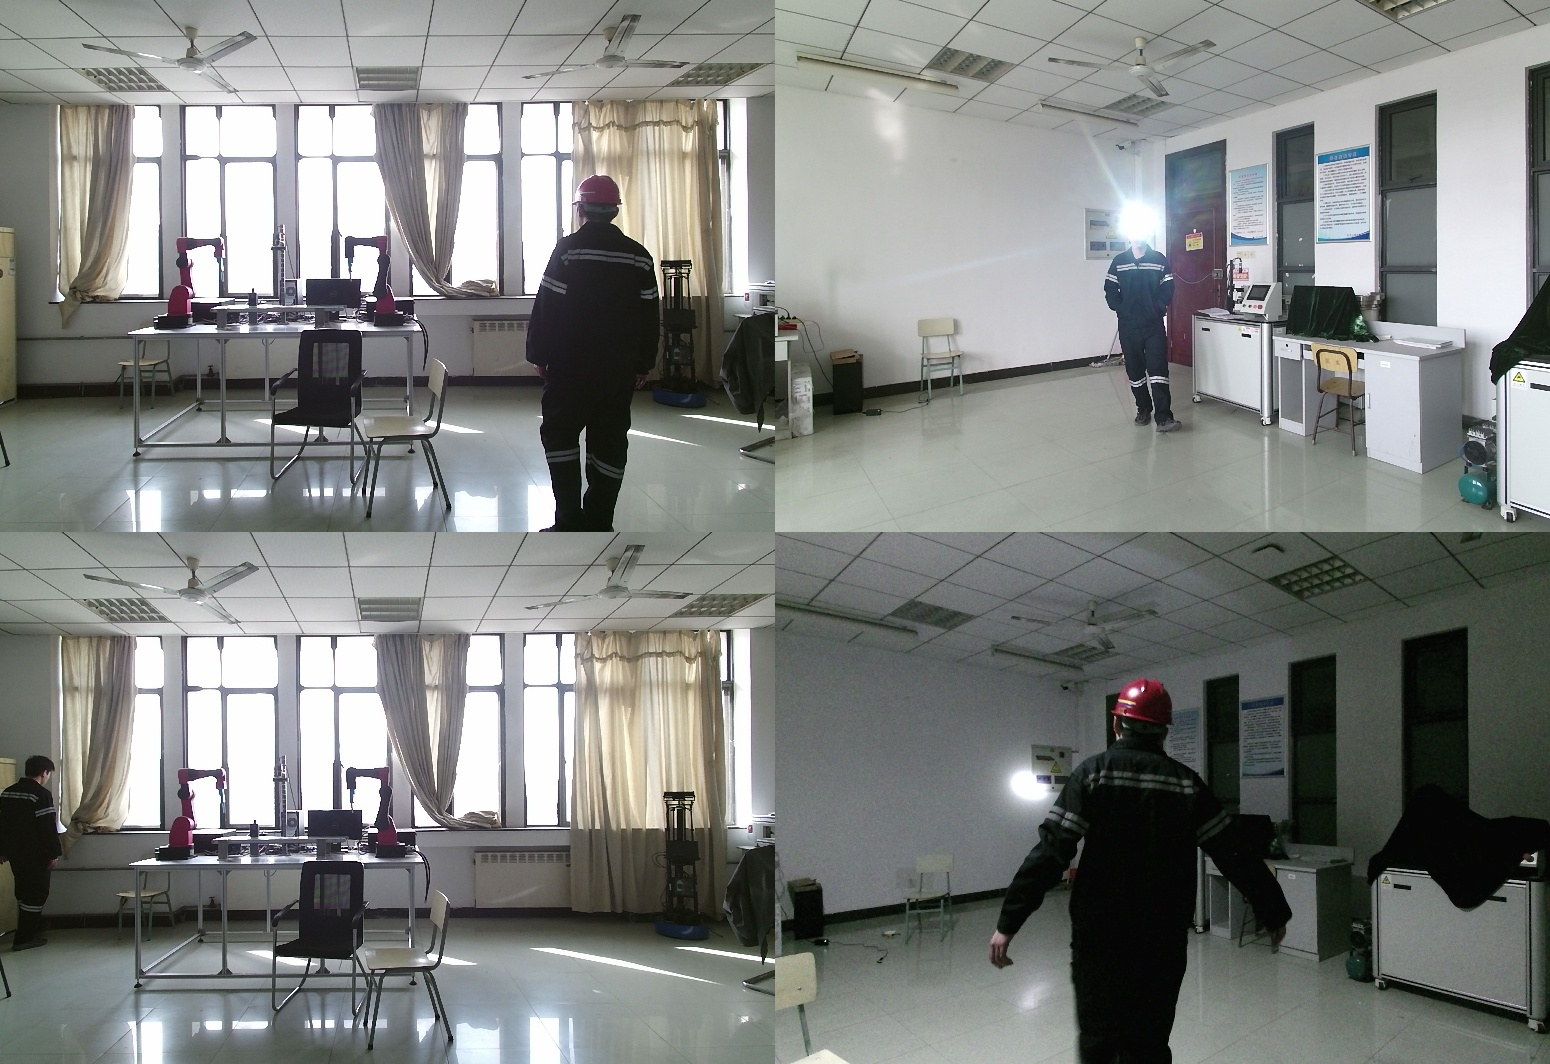person: (997, 676, 1305, 1064), (532, 174, 677, 532), (1107, 225, 1181, 436), (1, 756, 68, 949)
